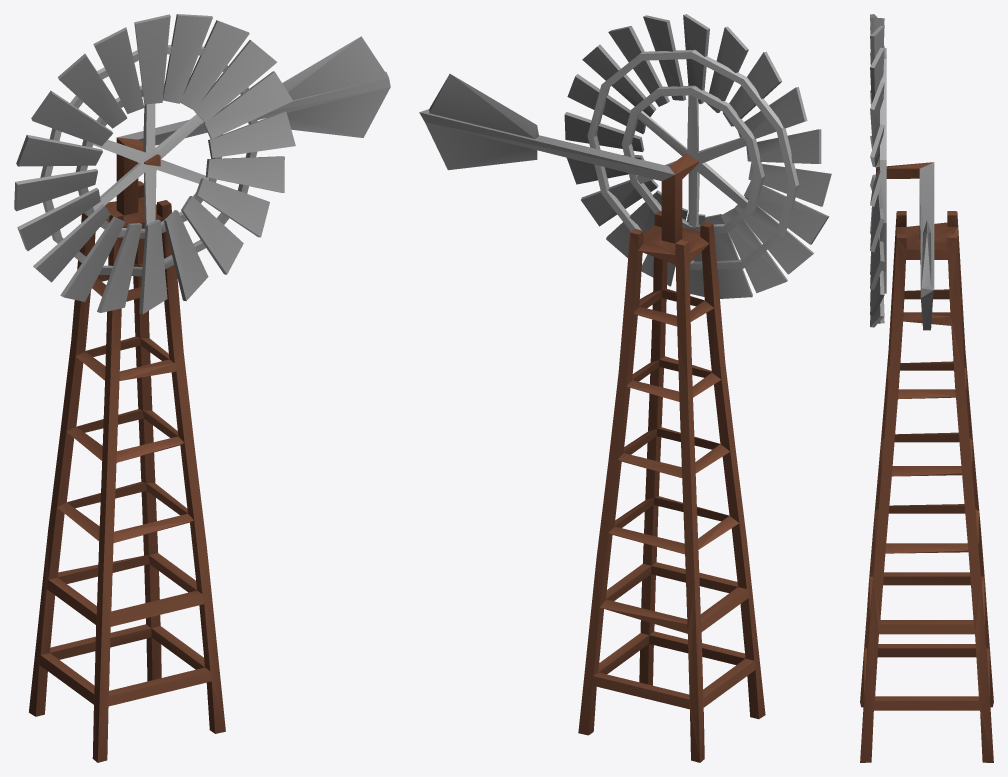
Rendered from farm-windmill.glb.
3 renders of one model, left to right at view 1: azimuth 30°, elevation 25°; view 2: azimuth 150°, elevation 25°; view 3: azimuth 270°, elevation 25°, orthographic. The views are drawn at different scales.
Visible parts, largest first — view 1: farm-windmill, Windmill_Blades; view 2: farm-windmill, Windmill_Blades; view 3: farm-windmill, Windmill_Blades.
Boxes of the visible parts, left/top/right/bottom form: farm-windmill: left=29, top=36, right=390, bottom=762; Windmill_Blades: left=14, top=14, right=295, bottom=314; farm-windmill: left=419, top=74, right=765, bottom=762; Windmill_Blades: left=564, top=14, right=831, bottom=298; farm-windmill: left=860, top=162, right=993, bottom=762; Windmill_Blades: left=870, top=14, right=886, bottom=327.
Size of the model in its own units: 5.81 by 10 by 1.72.
